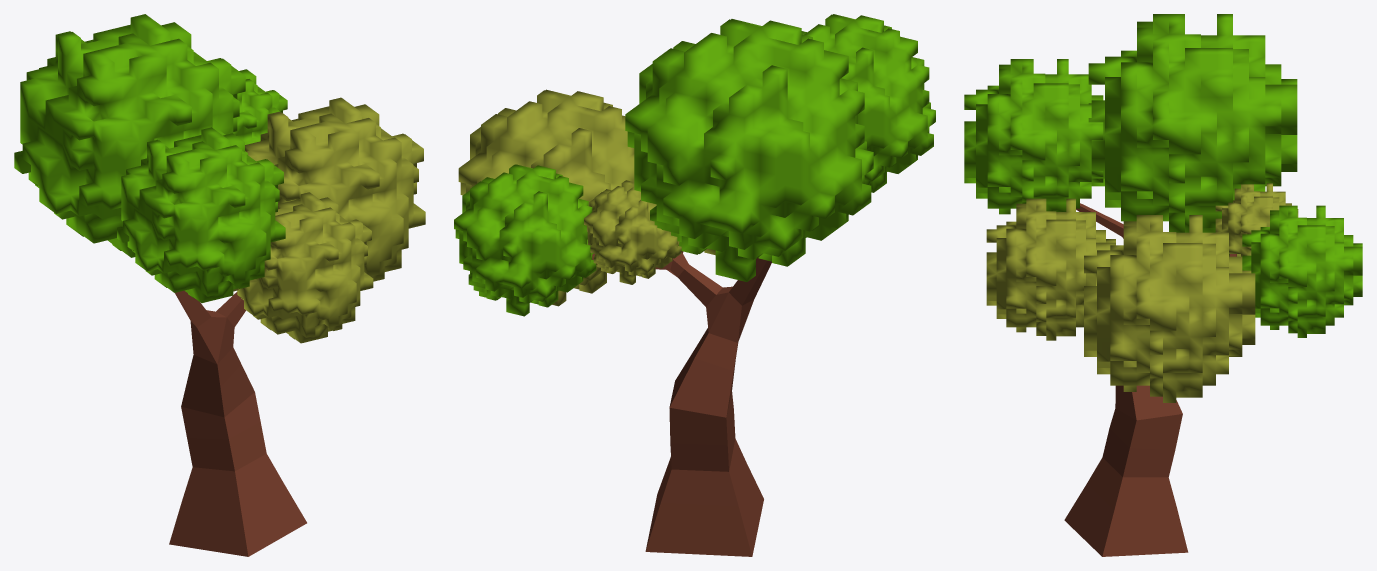
The model's file is Tree_04.fbx.
The picture shows the model from 3 angles, left to right: view 1: azimuth 30°, elevation 25°; view 2: azimuth 150°, elevation 25°; view 3: azimuth 270°, elevation 25°; orthographic projection. The views are drawn at different scales.
Parts seen in each view (by area): view 1: Sphere.008, Sphere.009, Cube.001, Sphere.010, Sphere.011, Sphere.006; view 2: Sphere.008, Cube.001, Sphere.006, Sphere.010, Sphere.009, Sphere.007; view 3: Sphere.008, Sphere.010, Sphere.009, Cube.001, Sphere.011, Sphere.006, Sphere.007.
Part boxes in pixels (left/top/right/bottom): Sphere.008: left=14, top=14, right=247, bottom=257; Sphere.009: left=117, top=127, right=285, bottom=303; Cube.001: left=169, top=290, right=306, bottom=556; Sphere.010: left=245, top=97, right=425, bottom=281; Sphere.011: left=233, top=192, right=373, bottom=343; Sphere.006: left=232, top=66, right=287, bottom=144; Sphere.008: left=625, top=19, right=873, bottom=281; Cube.001: left=592, top=251, right=771, bottom=556; Sphere.006: left=454, top=164, right=596, bottom=316; Sphere.010: left=458, top=89, right=634, bottom=306; Sphere.009: left=801, top=14, right=935, bottom=192; Sphere.007: left=584, top=180, right=681, bottom=284; Sphere.008: left=1088, top=14, right=1297, bottom=232; Sphere.010: left=1084, top=215, right=1255, bottom=402; Sphere.009: left=964, top=59, right=1103, bottom=214; Cube.001: left=1064, top=203, right=1236, bottom=556; Sphere.011: left=986, top=198, right=1115, bottom=340; Sphere.006: left=1242, top=205, right=1362, bottom=337; Sphere.007: left=1215, top=183, right=1298, bottom=256.
Size of the model in its own units: 245 by 322 by 247.
